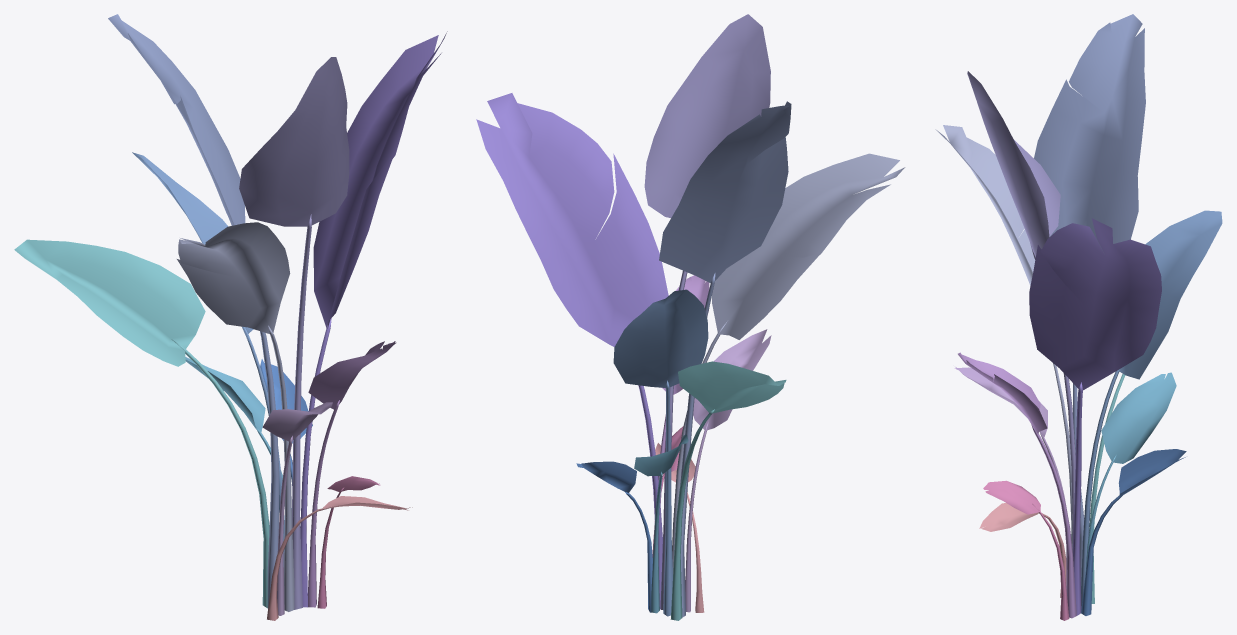
3 views of the same model, side by side, from view 1: azimuth 30°, elevation 25°; view 2: azimuth 150°, elevation 25°; view 3: azimuth 270°, elevation 25° (orthographic). The views are drawn at different scales.
Visible parts, largest first — view 1: SM_BS_Strelitzia_140cm_HD; view 2: SM_BS_Strelitzia_140cm_HD; view 3: SM_BS_Strelitzia_140cm_HD.
Boxes of the visible parts, bbox=[...] form: SM_BS_Strelitzia_140cm_HD: bbox=[14, 14, 447, 620]; SM_BS_Strelitzia_140cm_HD: bbox=[476, 14, 905, 620]; SM_BS_Strelitzia_140cm_HD: bbox=[935, 14, 1222, 620].
Bounding box in the file's own units: 28.33 × 37.45 × 57.5.
